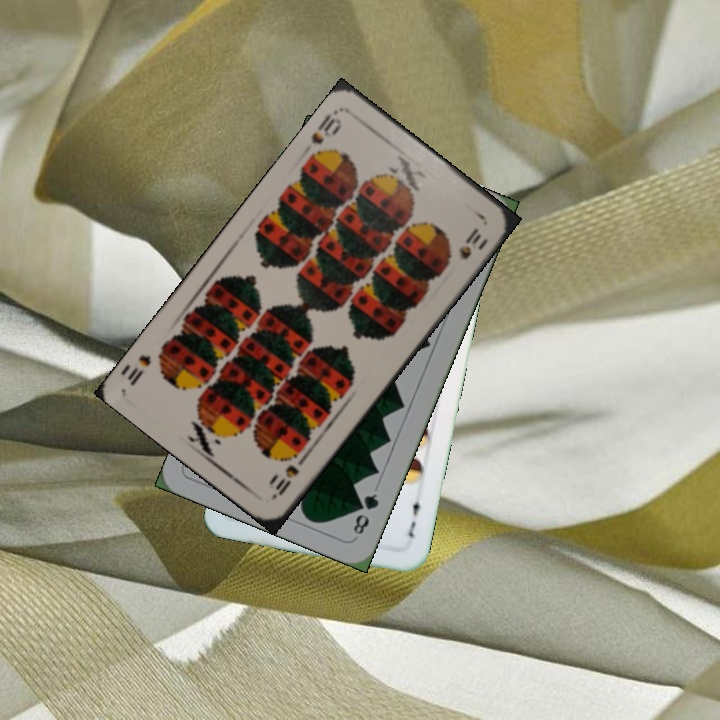E7: (404, 491, 424, 540)
G8: (349, 489, 382, 538)
S10: (268, 450, 310, 501), (307, 110, 345, 147)
